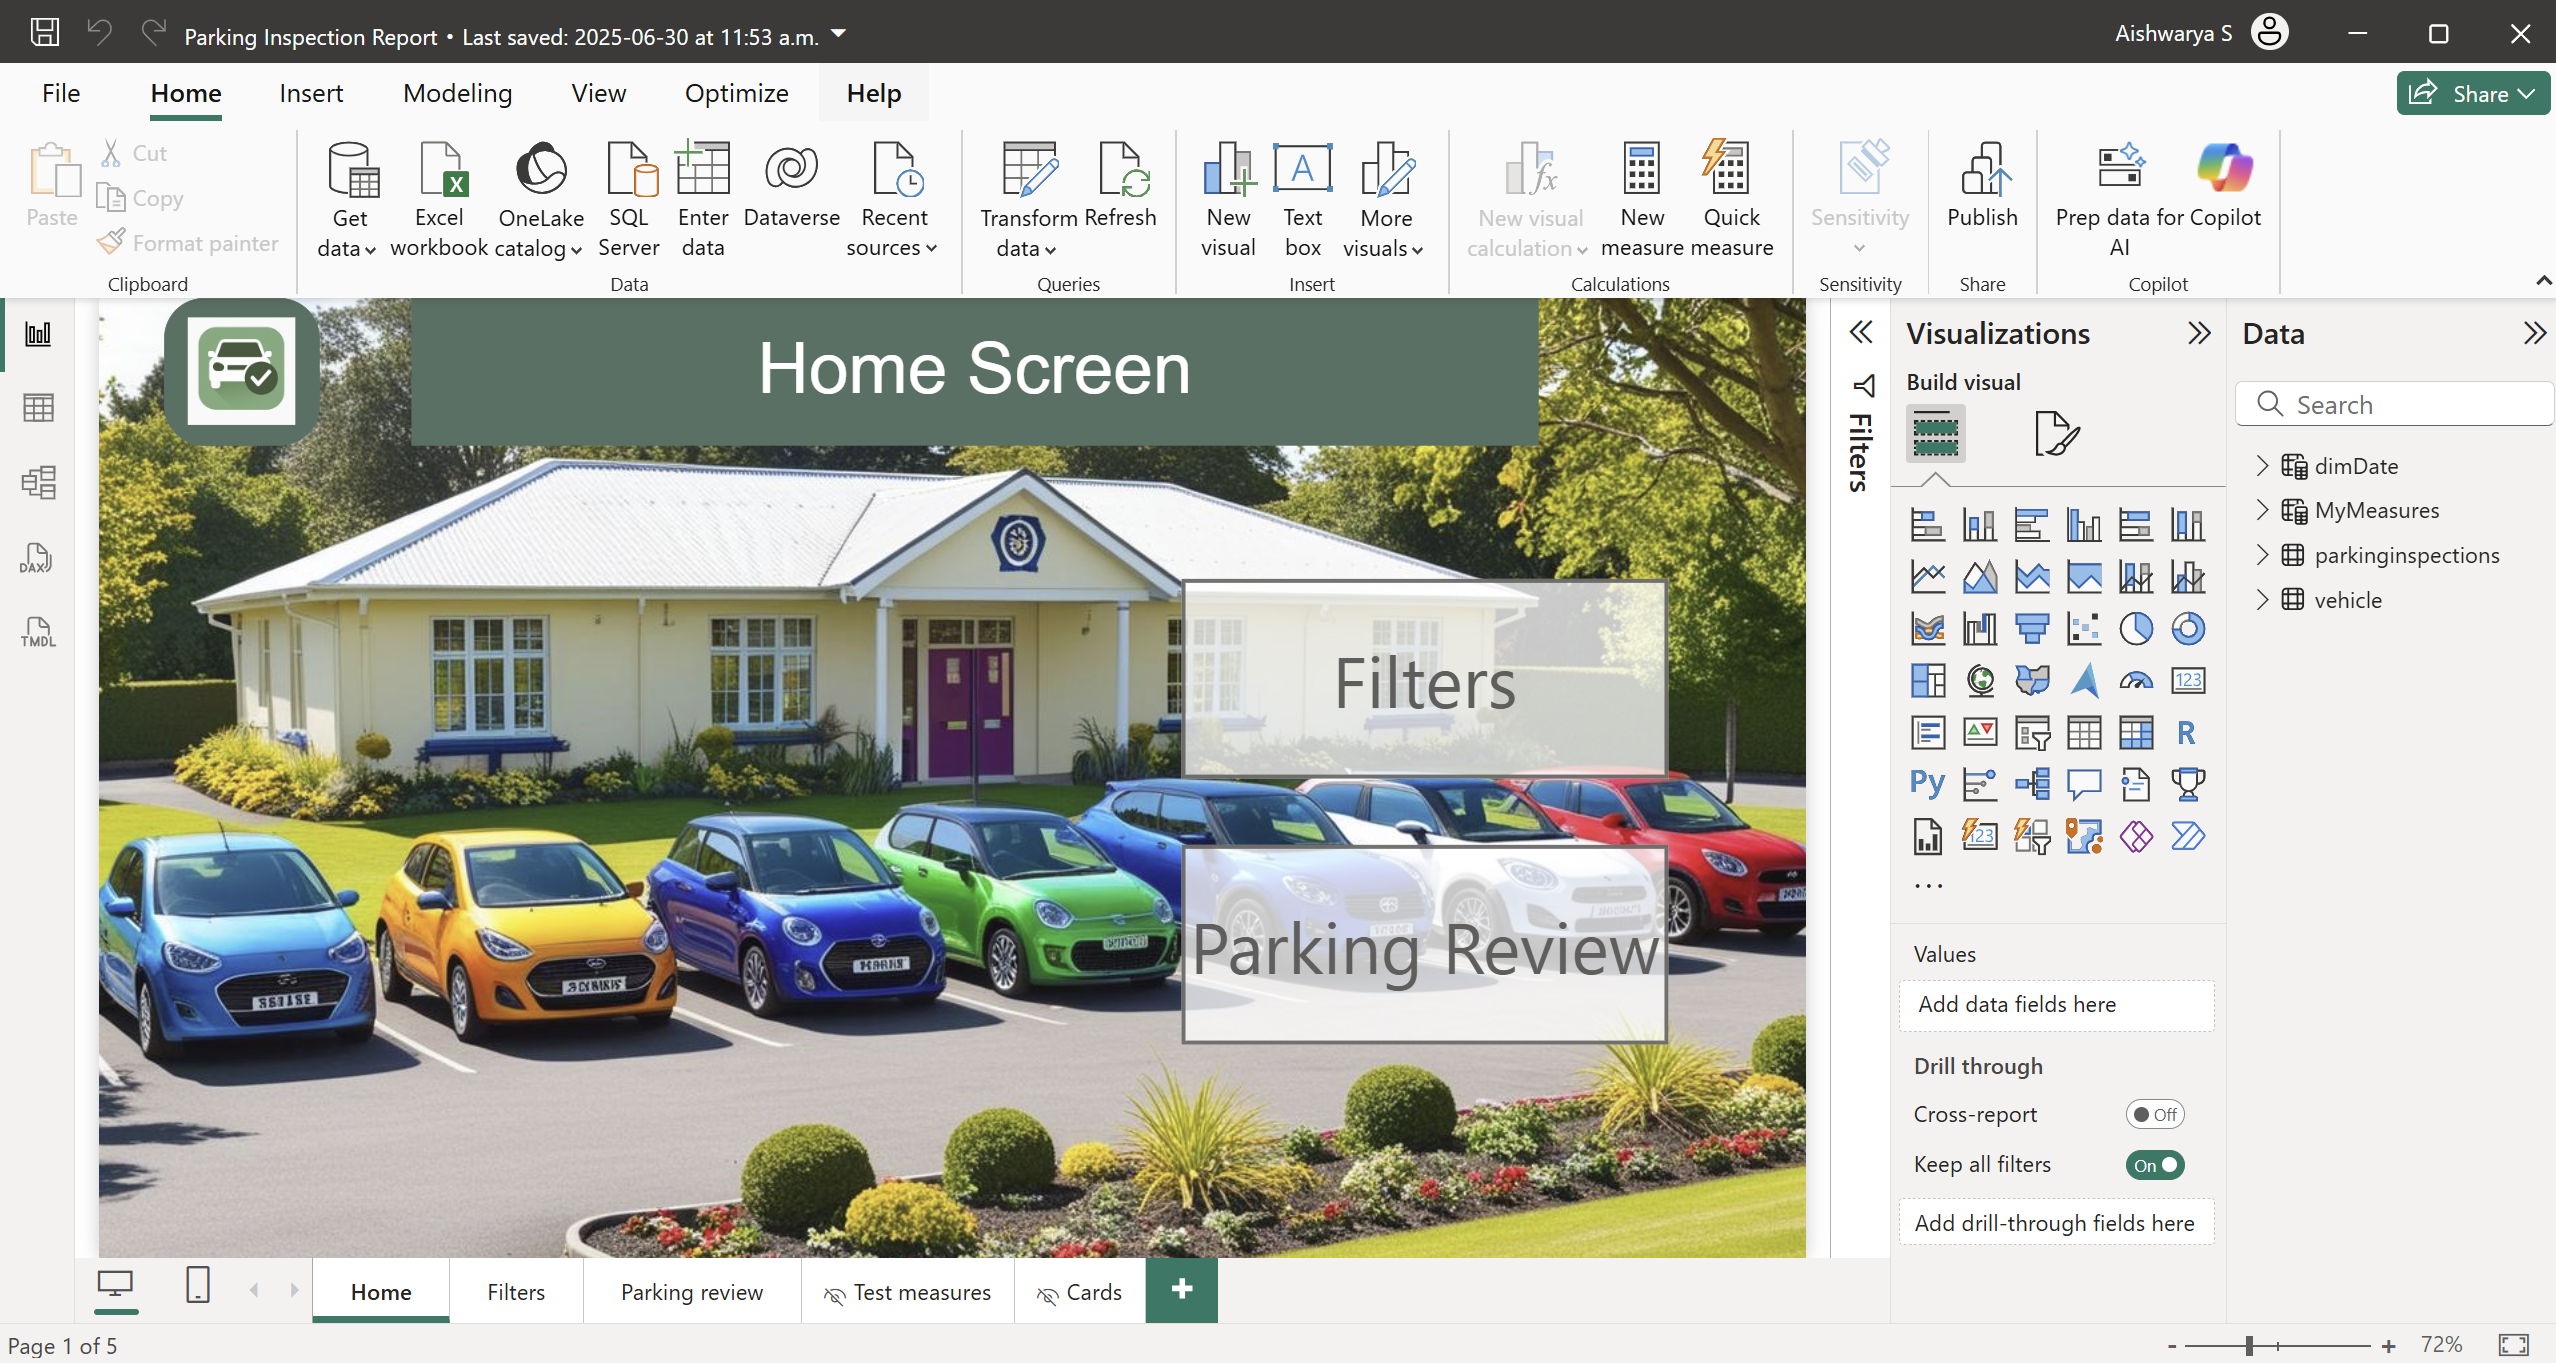

Layout of this report page (visuals, bound fields, positions):
{"tool":"powerbi","page":{"name":"Home","canvas":[1280,720],"ordinal":0},"visuals":[{"type":"actionButton","box":[812.3,211.3,365.1,149.7],"z":0},{"type":"actionButton","box":[812.3,410.2,365.1,149.7],"z":1000},{"type":"image","box":[49.2,0,116.9,110.8],"z":2000},{"type":"textbox","box":[233.8,0,845.1,110.8],"z":3000}]}

Visuals, with their boxes on the page's 1280x720 design canvas (x1, y1, x2, y2). These are canvas units, not pixel positions in the 2556x1363 screenshot, which may show the page scaled, cropped or inside an application window:
actionButton: left=812, top=211, right=1177, bottom=361
actionButton: left=812, top=410, right=1177, bottom=560
image: left=49, top=0, right=166, bottom=111
textbox: left=234, top=0, right=1079, bottom=111
